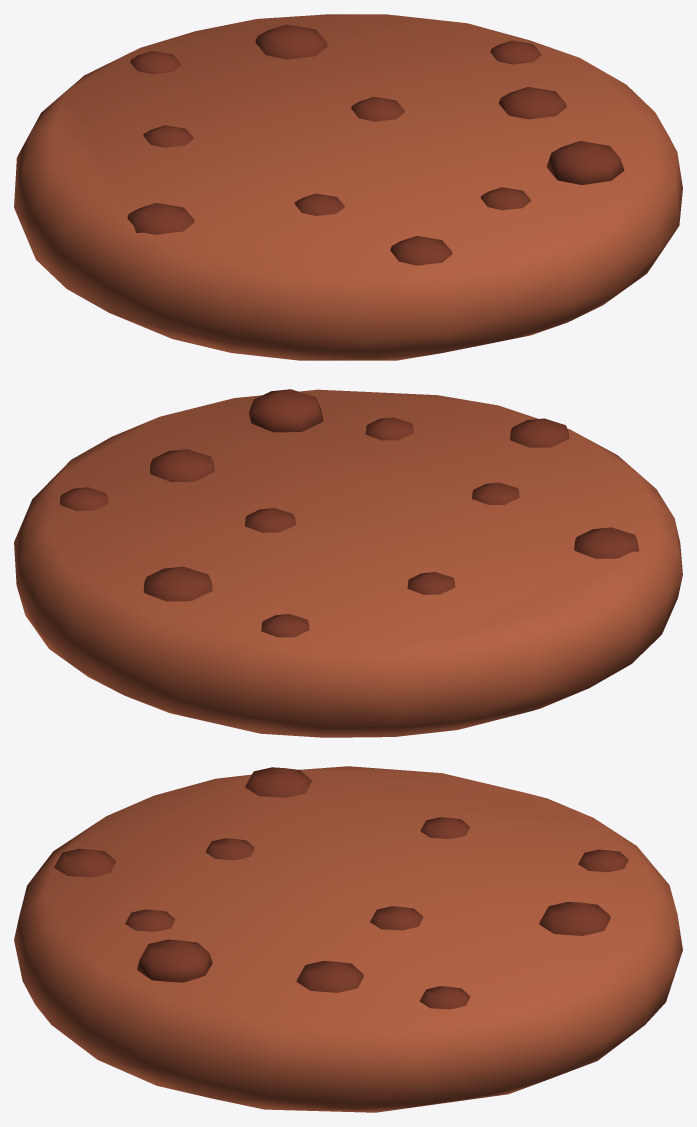
File: Cookie.fbx
The picture shows the model from 3 angles, top to bottom: view 1: azimuth 30°, elevation 25°; view 2: azimuth 150°, elevation 25°; view 3: azimuth 270°, elevation 25°; orthographic projection.
Visible parts, largest first — view 1: Cookie; view 2: Cookie; view 3: Cookie.
Part boxes in pixels (x1,y1,x2,y2): Cookie: (14, 14, 682, 360); Cookie: (14, 389, 682, 737); Cookie: (14, 766, 682, 1112).
Size of the model in its own units: 46.8 by 10.4 by 46.79.
